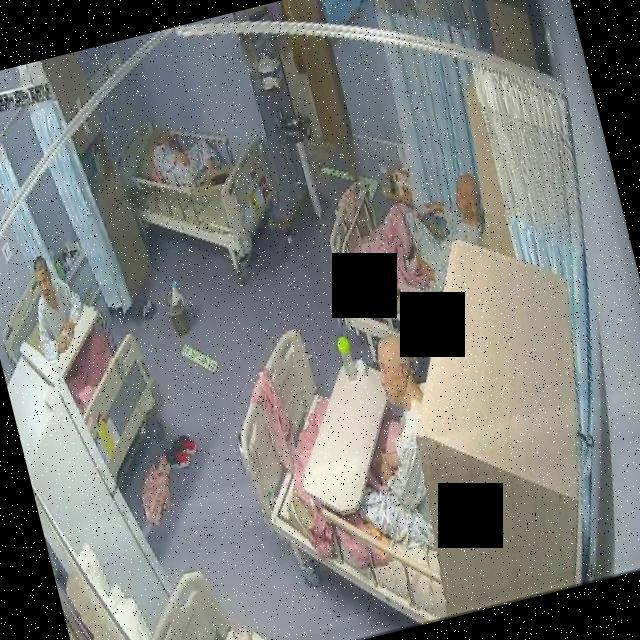bed: (217, 305, 482, 640), (0, 255, 177, 497), (317, 166, 489, 375), (110, 93, 286, 281)
lie: (138, 114, 230, 200)
patient: (320, 336, 460, 560), (386, 157, 502, 310), (18, 246, 92, 362), (138, 115, 229, 199)
sit: (320, 336, 461, 560), (352, 158, 502, 318), (18, 246, 92, 361)
